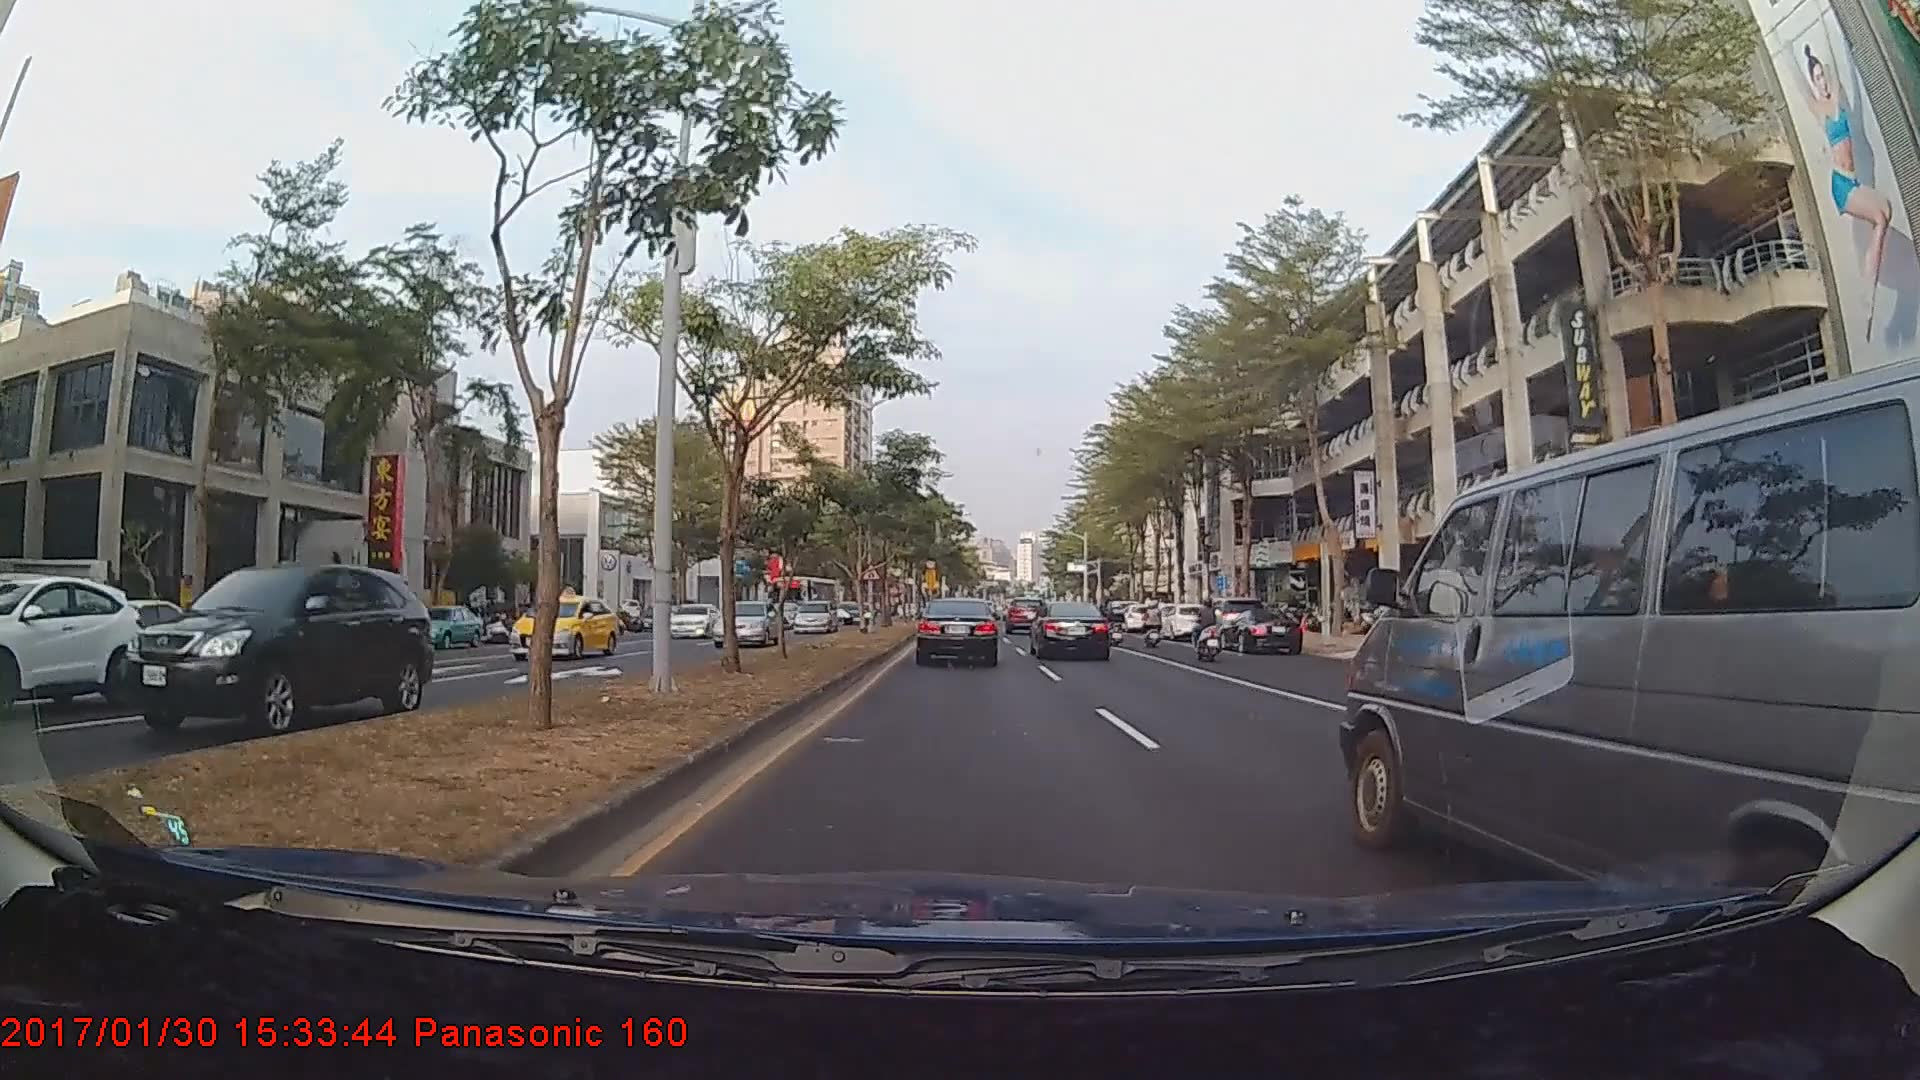rider: (1188, 591, 1231, 665), (1140, 588, 1168, 645)
vehicle: (1337, 343, 1919, 915), (118, 562, 433, 737), (0, 574, 148, 718), (510, 594, 616, 662), (917, 596, 1000, 668), (1031, 601, 1110, 662), (766, 574, 840, 628), (1219, 606, 1302, 653), (1192, 595, 1265, 646), (710, 597, 781, 647), (1153, 603, 1213, 640), (668, 603, 722, 640), (793, 596, 837, 633), (1006, 592, 1045, 628), (841, 602, 872, 624)
